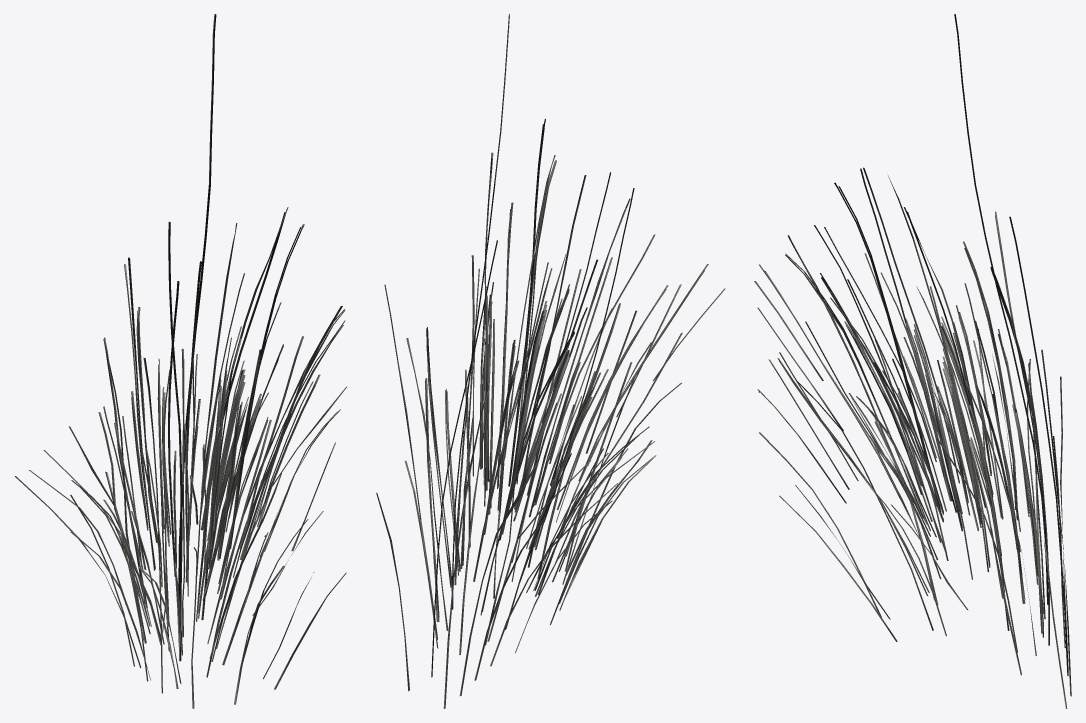
The model's file is 20260508221244_769faa2a.fbx.
3 views of the same model, side by side, from view 1: azimuth 30°, elevation 25°; view 2: azimuth 150°, elevation 25°; view 3: azimuth 270°, elevation 25° (orthographic). The views are drawn at different scales.
Parts seen in each view (by area): view 1: mesh_rep_0_ori_repair_quad; view 2: mesh_rep_0_ori_repair_quad; view 3: mesh_rep_0_ori_repair_quad.
Part boxes in pixels (x1=…): mesh_rep_0_ori_repair_quad: x1=15, y1=14, x2=346, y2=708; mesh_rep_0_ori_repair_quad: x1=376, y1=14, x2=725, y2=708; mesh_rep_0_ori_repair_quad: x1=754, y1=14, x2=1071, y2=708.
Bounding box in the file's own units: 46.67 × 106 × 44.83.
Materials: 1 (1 with a texture image).
